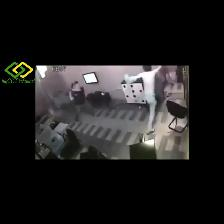person: (125, 66, 162, 134), (69, 81, 94, 121)
